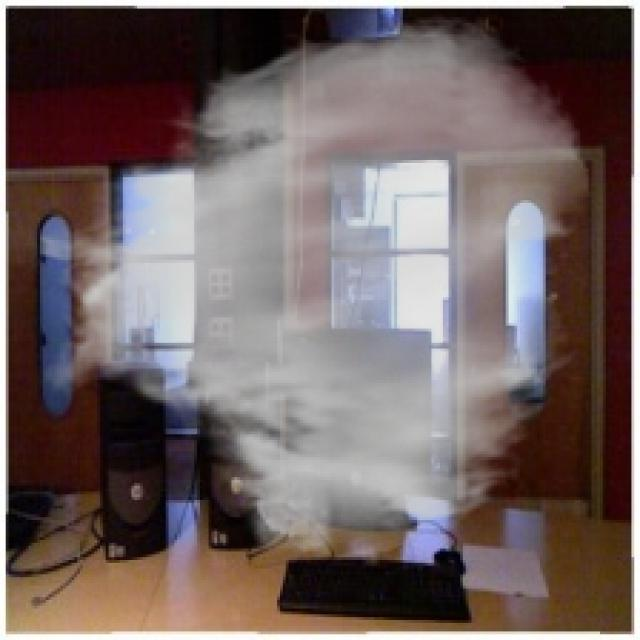smoke: (40, 11, 594, 563)
